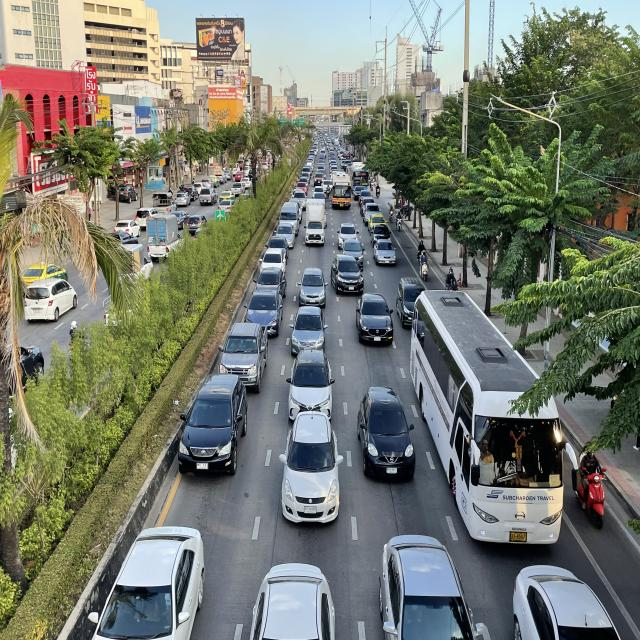bike: (575, 439, 607, 532), (444, 265, 459, 294), (419, 250, 429, 281), (417, 239, 426, 263), (396, 210, 402, 232)
bus: (408, 287, 568, 550), (331, 172, 352, 210)
car: (87, 524, 205, 640), (377, 531, 485, 640), (510, 561, 622, 640), (278, 411, 344, 525), (177, 374, 249, 478), (249, 561, 336, 640), (356, 383, 416, 484), (286, 350, 335, 426), (218, 322, 269, 395), (355, 292, 394, 346), (288, 306, 329, 356), (243, 290, 284, 338), (396, 276, 425, 329), (329, 254, 365, 296), (296, 267, 328, 309), (252, 266, 287, 300), (258, 248, 286, 276), (340, 239, 365, 269), (372, 239, 398, 265), (336, 222, 359, 250), (264, 235, 290, 259)
truck: (304, 198, 326, 246)
